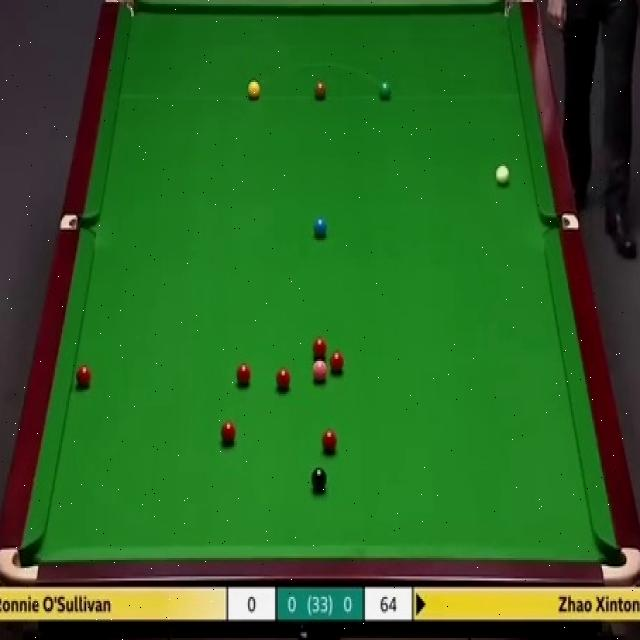black-ball: (312, 467, 328, 492)
blue-ball: (326, 230, 338, 254)
brown-ball: (313, 81, 328, 99)
pink-ball: (532, 350, 548, 373)
red-ball: (364, 378, 381, 406), (543, 386, 562, 410), (513, 373, 529, 398), (284, 300, 301, 322), (330, 409, 345, 433), (302, 391, 316, 416), (312, 424, 327, 447), (231, 348, 246, 371), (316, 404, 331, 426), (404, 325, 418, 348), (306, 375, 320, 397)
white-ball: (146, 357, 161, 380)
yellow-ball: (196, 53, 210, 75)
